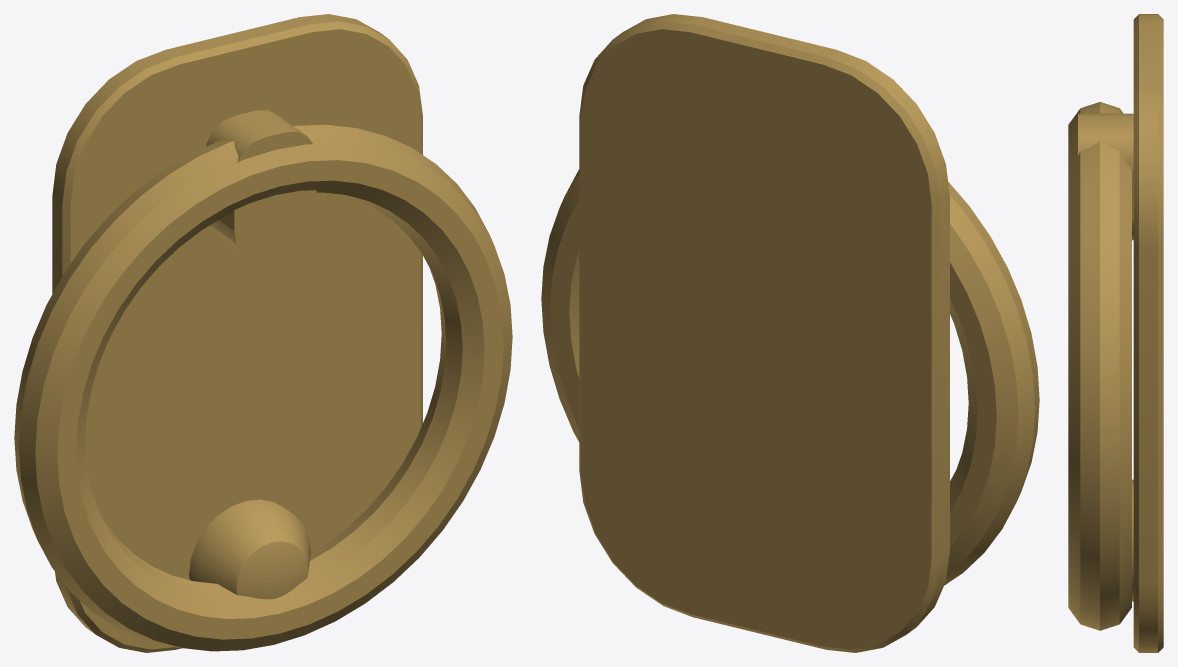
3 views of the same model, side by side, from view 1: azimuth 30°, elevation 25°; view 2: azimuth 150°, elevation 25°; view 3: azimuth 270°, elevation 25° (orthographic). The views are drawn at different scales.
Visible parts, largest first — view 1: iron_knocker_plate, iron_knocker_ring, iron_knocker_striker, iron_knocker_lug; view 2: iron_knocker_plate, iron_knocker_ring; view 3: iron_knocker_ring, iron_knocker_plate, iron_knocker_lug, iron_knocker_striker.
Part boxes in pixels (x1=…): iron_knocker_plate: x1=52, y1=14, x2=422, y2=652; iron_knocker_ring: x1=14, y1=123, x2=512, y2=651; iron_knocker_striker: x1=189, y1=499, x2=310, y2=599; iron_knocker_lug: x1=206, y1=110, x2=316, y2=256; iron_knocker_plate: x1=579, y1=14, x2=949, y2=652; iron_knocker_ring: x1=541, y1=169, x2=1039, y2=585; iron_knocker_ring: x1=1068, y1=102, x2=1131, y2=630; iron_knocker_plate: x1=1133, y1=14, x2=1163, y2=652; iron_knocker_lug: x1=1078, y1=113, x2=1133, y2=240; iron_knocker_striker: x1=1132, y1=479, x2=1133, y2=601.
Size of the model in its own units: 0.095 by 0.11 by 0.0171.
